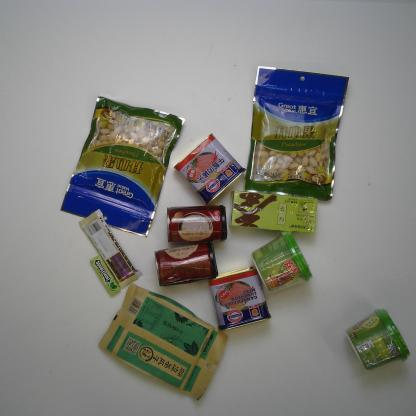Canned Food: (173, 130, 247, 209), (205, 262, 274, 333), (154, 238, 222, 289), (164, 200, 230, 245)
Chocolate: (76, 206, 144, 290)
Dried Food: (94, 279, 234, 404)
Dried Fruit: (57, 94, 188, 242), (244, 66, 352, 205)
Gum: (87, 252, 124, 300)
Instant Drink: (343, 304, 412, 376), (250, 228, 316, 294), (230, 186, 320, 234)
